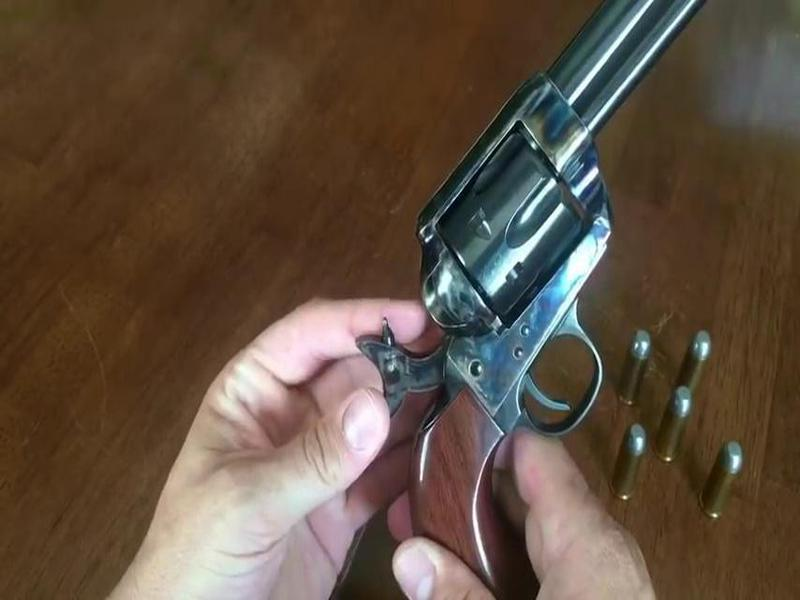Revolver: (346, 11, 717, 550)
